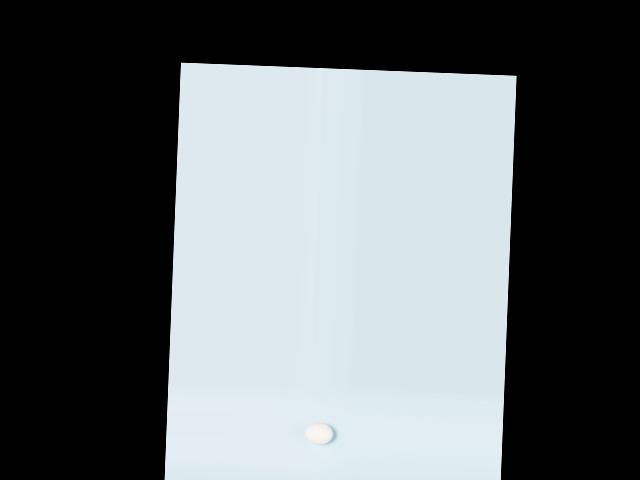egg: (304, 422, 333, 444)
